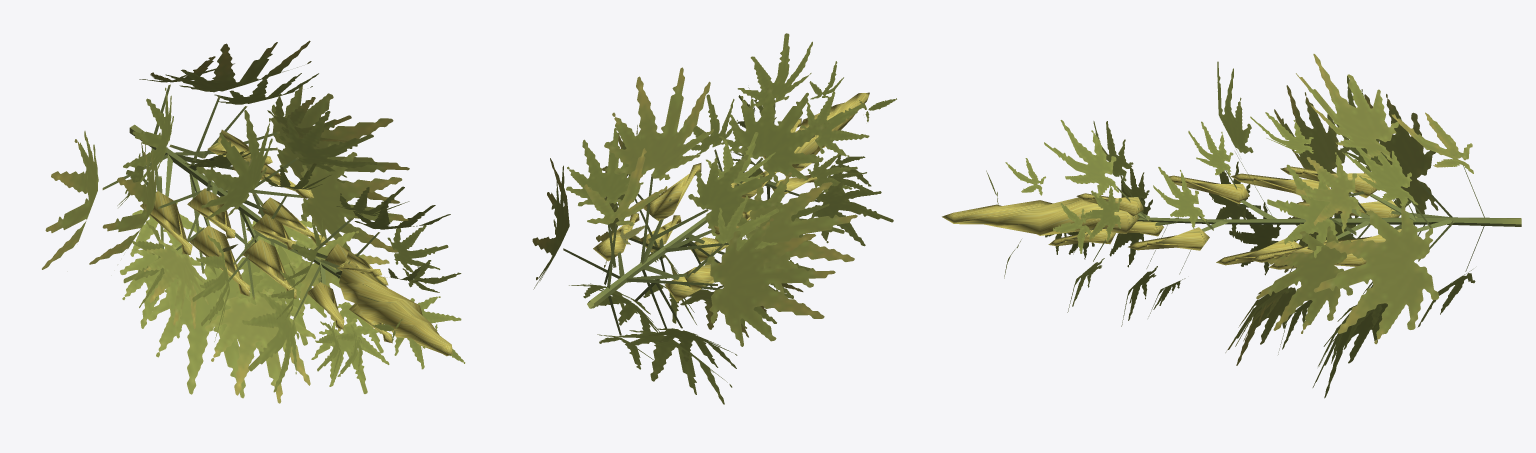
File: p_gold_landrace_ripe_c1_cards.obj
3 views of the same model, side by side, from view 1: azimuth 30°, elevation 25°; view 2: azimuth 150°, elevation 25°; view 3: azimuth 270°, elevation 25° (orthographic). The views are drawn at different scales.
Bounding box in the file's own units: 1.59 × 1.56 × 2.13.
1 material, 1 textured.
